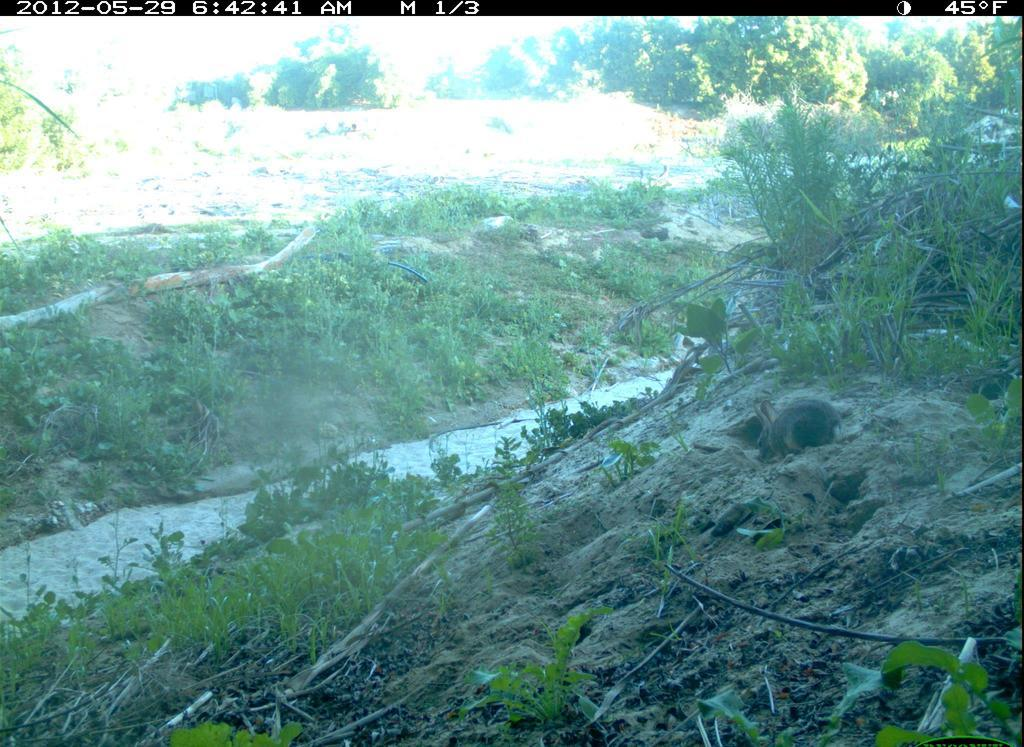rabbit: (740, 381, 856, 475)
